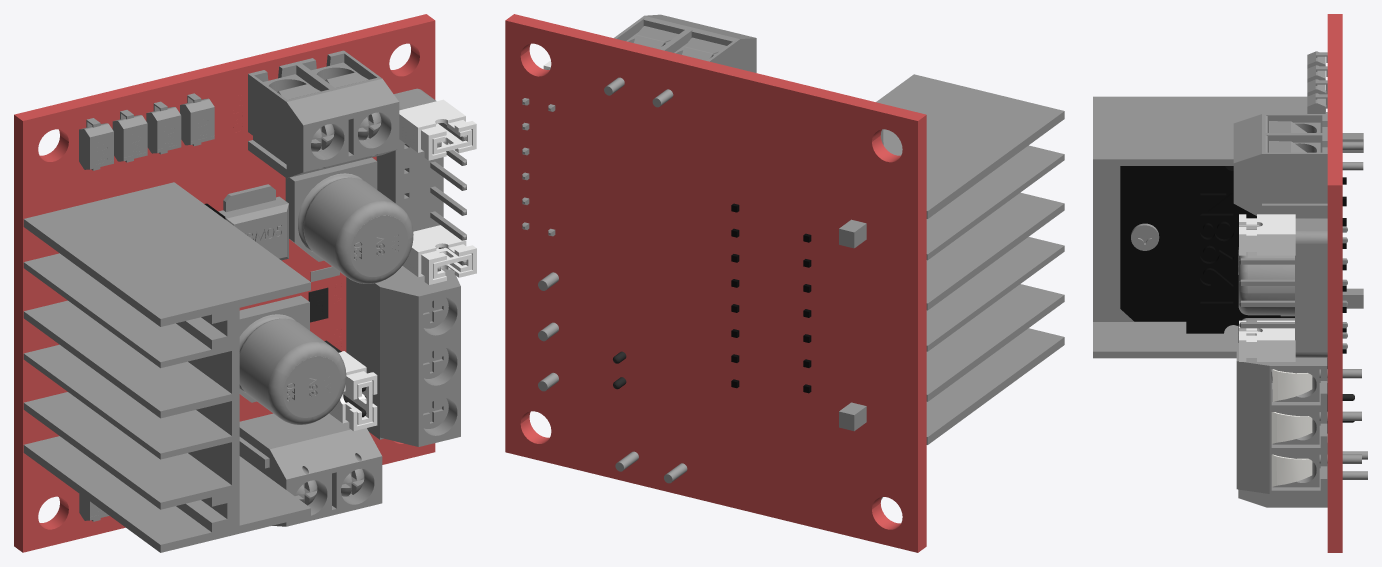
File: placa_controlador_nueva v56.glb
3 views of the same model, side by side, from view 1: azimuth 30°, elevation 25°; view 2: azimuth 150°, elevation 25°; view 3: azimuth 270°, elevation 25° (orthographic). The views are drawn at different scales.
Parts seen in each view (by area): view 1: disipador v2, SOLID (×2), bornera v3 (×2), capacitor nuevo v3 (×2), Pin header jumper v2 (×3), DIODO M7 v2 (×4), PINES v1, INTEGRADO NUEVO 78M05 v1, pija_bornera de 3 pines v3 (×3), resistencia 102 v1; view 2: SOLID (×2), disipador v2, bornera v3, Transistor L298N v3; view 3: disipador v2, Transistor L298N v3, SOLID (×2), bornera v3 (×2), PINES v1, Pin header jumper v2 (×2), parte de la bornera v4 (×3), capacitor nuevo v3, Tornillo_disipador v5, DIODO M7 v2.
Part boxes in pixels (x1,y1,x2,y2): disipador v2: (23, 182, 310, 552); SOLID (×2): (14, 14, 460, 552); bornera v3 (×2): (239, 50, 399, 526); capacitor nuevo v3 (×2): (239, 157, 413, 424); Pin header jumper v2 (×3): (329, 99, 476, 431); DIODO M7 v2 (×4): (79, 93, 214, 170); PINES v1: (376, 88, 467, 271); INTEGRADO NUEVO 78M05 v1: (218, 184, 288, 260); pija_bornera de 3 pines v3 (×3): (422, 297, 448, 428); resistencia 102 v1: (308, 287, 328, 322); SOLID (×2): (505, 14, 926, 552); disipador v2: (839, 74, 1064, 444); bornera v3: (604, 14, 756, 107); Transistor L298N v3: (731, 203, 811, 393); disipador v2: (1093, 96, 1363, 358); Transistor L298N v3: (1120, 166, 1346, 353); SOLID (×2): (1236, 14, 1361, 552); bornera v3 (×2): (1233, 114, 1367, 507); PINES v1: (1239, 218, 1347, 357); Pin header jumper v2 (×2): (1239, 214, 1295, 361); parte de la bornera v4 (×3): (1271, 369, 1312, 486); capacitor nuevo v3: (1238, 247, 1294, 315); Tornillo_disipador v5: (1131, 223, 1159, 250); DIODO M7 v2: (1307, 93, 1327, 113).
Bounding box in the file's own units: 43.01 × 43 × 29.15.
